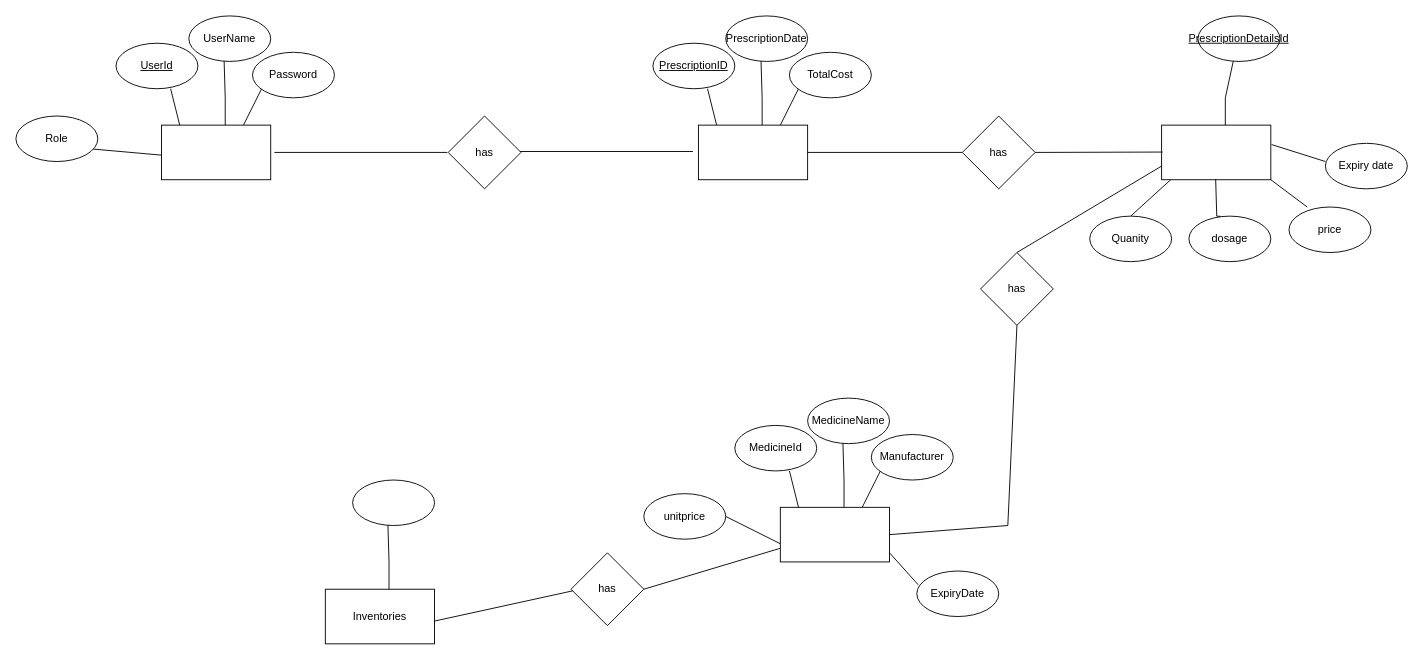
Image size: 1423x660. Some labels were removed from this diagram. Here are the shapes that lost their labels. From the top down, the box of each, then its label:
(161, 124, 271, 180): User
(698, 124, 808, 180): Prescriptions
(1161, 124, 1271, 180): PrescriptionsDetails
(352, 479, 435, 526): QuantityInStock
(779, 506, 890, 562): Medicines
